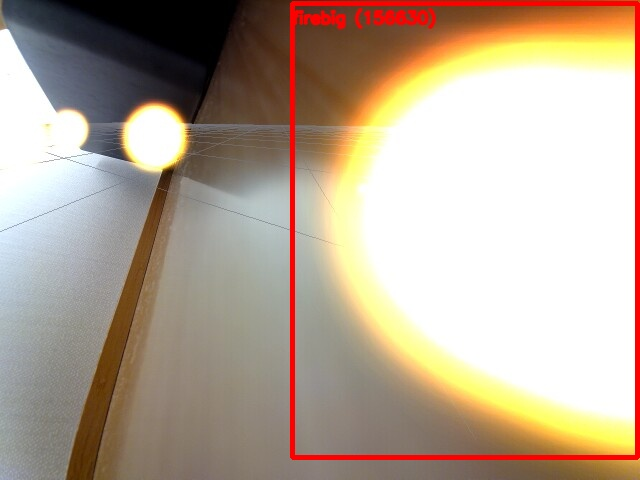firebig: (292, 3, 637, 457)
